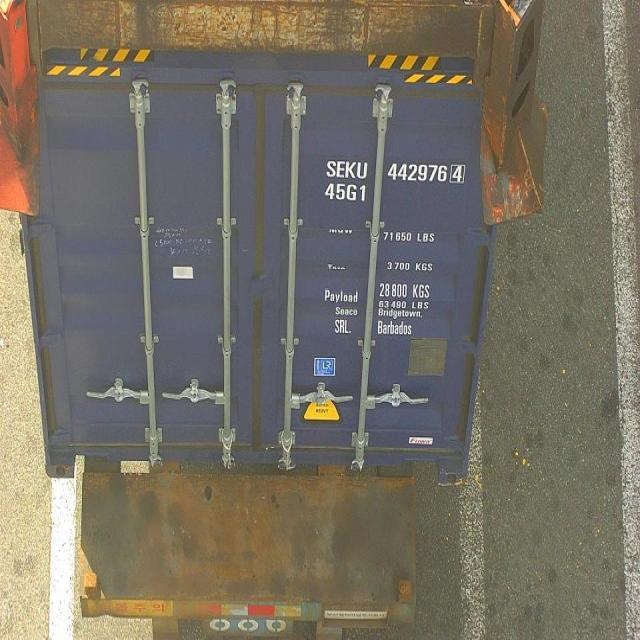ISO: (325, 180, 370, 206)
container_number: (326, 153, 464, 182)
